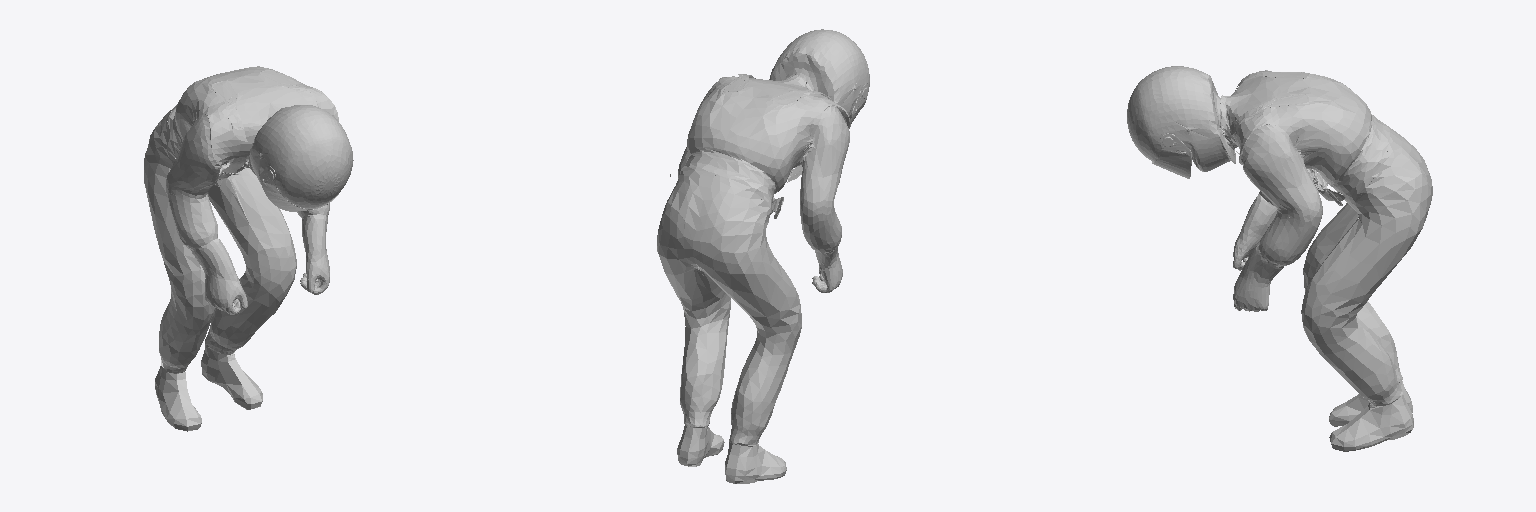
The model's file is GTR_Driver3Smooth.obj.
3 views of the same model, side by side, from view 1: azimuth 30°, elevation 25°; view 2: azimuth 150°, elevation 25°; view 3: azimuth 270°, elevation 25° (orthographic).
Visible parts, largest first — view 1: Object.3, Object.6, Object.8, Object.5, Object.4, Object.10, Object.9; view 2: Object.3, Object.6, Object.8, Object.5, Object.9, Object.10; view 3: Object.3, Object.6, Object.8, Object.4, Object.10, Object.5, Object.9.
Part boxes in pixels (left/top/right/bottom): Object.3: left=144, top=105, right=296, bottom=373; Object.6: left=166, top=66, right=338, bottom=198; Object.8: left=249, top=105, right=353, bottom=211; Object.5: left=167, top=194, right=247, bottom=314; Object.4: left=297, top=203, right=329, bottom=294; Object.10: left=201, top=343, right=262, bottom=409; Object.9: left=155, top=360, right=201, bottom=431; Object.3: left=657, top=171, right=801, bottom=444; Object.6: left=678, top=74, right=850, bottom=221; Object.8: left=769, top=29, right=869, bottom=123; Object.5: left=800, top=208, right=842, bottom=292; Object.9: left=725, top=442, right=786, bottom=483; Object.10: left=677, top=425, right=724, bottom=466; Object.3: left=1301, top=129, right=1432, bottom=407; Object.6: left=1221, top=70, right=1390, bottom=224; Object.8: left=1127, top=66, right=1237, bottom=178; Object.4: left=1233, top=211, right=1319, bottom=311; Object.10: left=1329, top=395, right=1413, bottom=451; Object.5: left=1233, top=169, right=1317, bottom=270; Object.9: left=1329, top=381, right=1412, bottom=426.
Bounding box in the file's own units: 12.94 × 30.15 × 22.63.